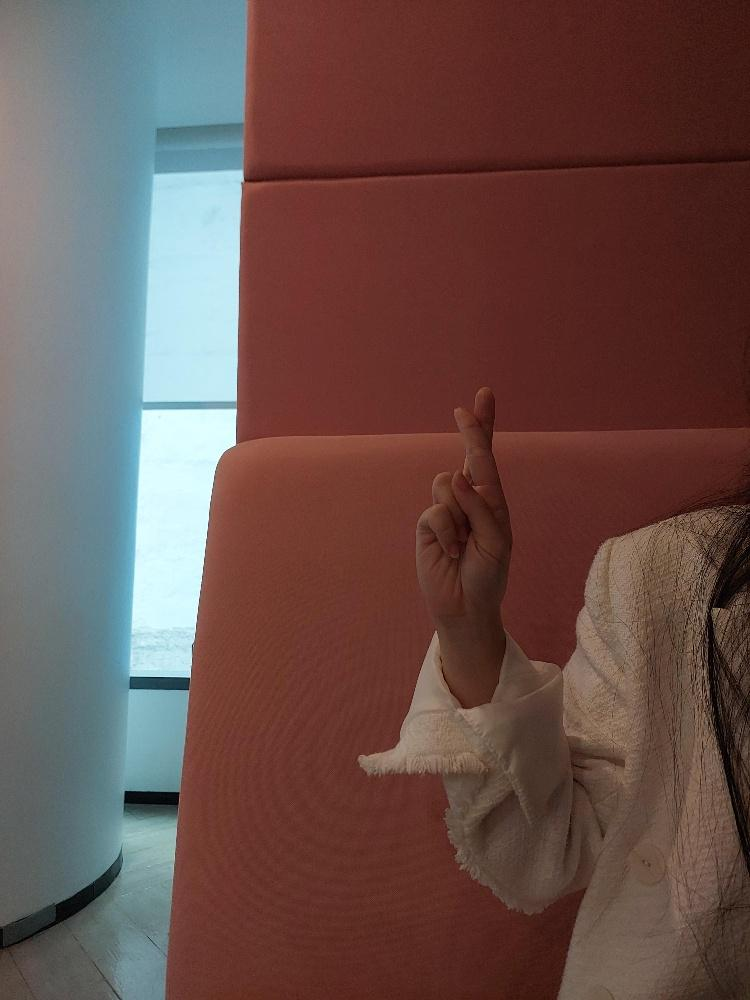r: (417, 384, 511, 615)
